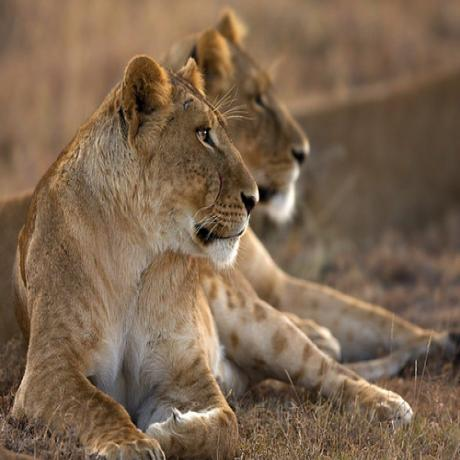Lion: (0, 57, 260, 458), (232, 11, 310, 221)
